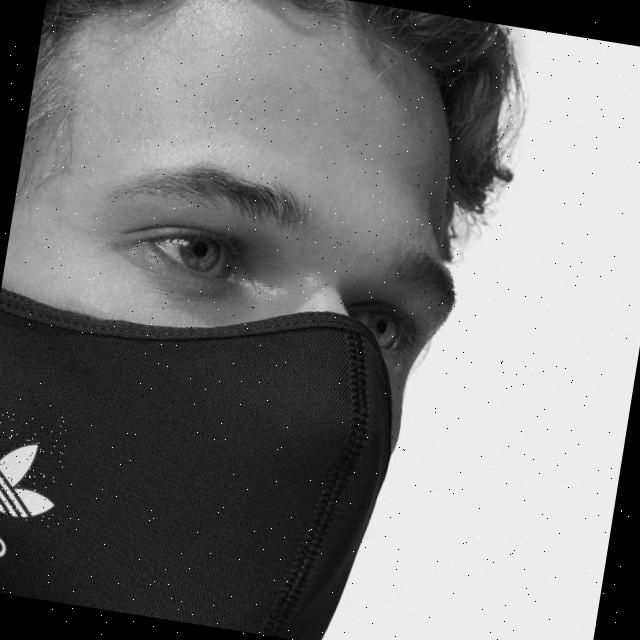Adidas: (0, 403, 71, 528)
